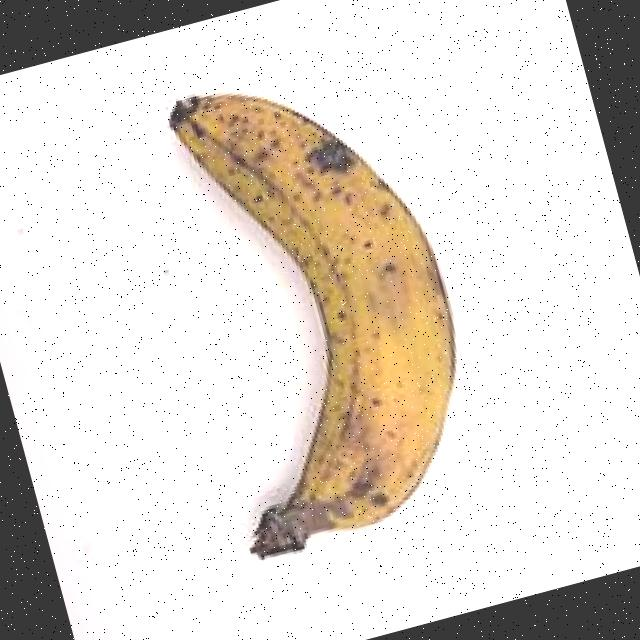Overripe: (88, 9, 548, 612)
